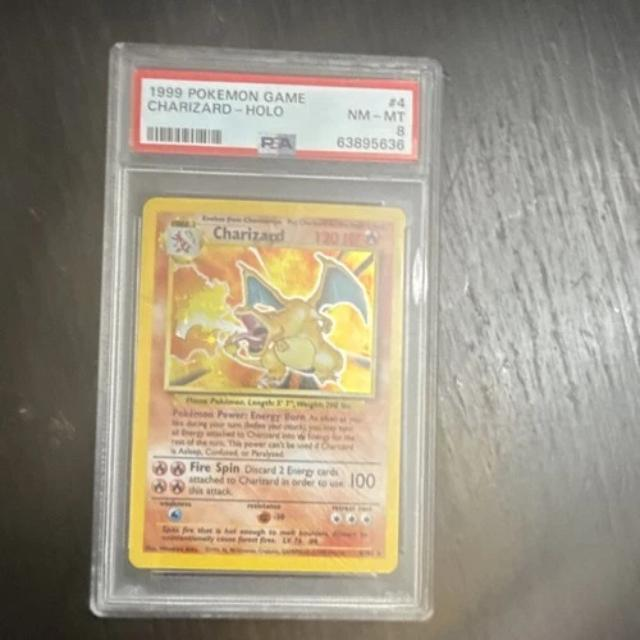Card: (120, 191, 408, 579)
Name: (210, 223, 292, 246)
